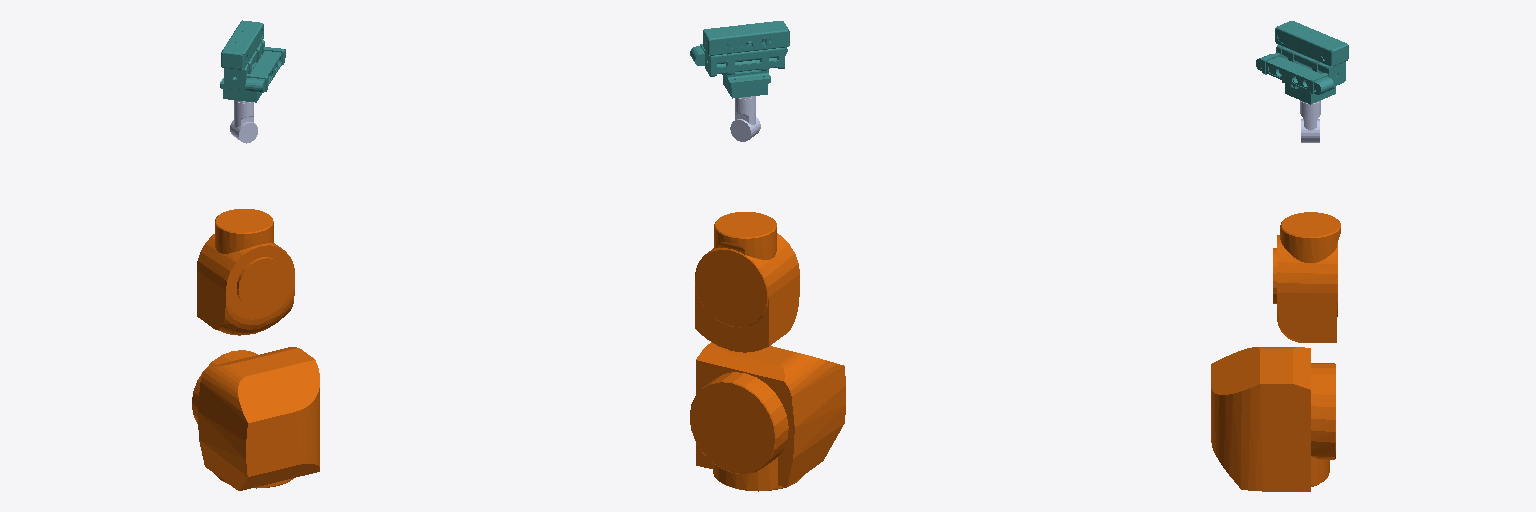
The robot description file, URDF, robot "RX60B-HB_5":
<robot
  name="RX60B-HB_5">
  <link
    name="base_link">
    <visual>
      <origin
        xyz="0 0 0"
        rpy="0 0 0" />
      <geometry>
        <mesh
          filename="package://rx60b_description/meshes/base_link.stl" />
      </geometry>
      <material
        name="">
        <color
          rgba="0.867 0.45 0.098 1" />
      </material>
    </visual>
    <collision>
      <origin
        xyz="0 0 0"
        rpy="0 0 0" />
      <geometry>
        <mesh
          filename="package://rx60b_description/meshes/base_link.stl" />
      </geometry>
    </collision>
  </link>
  <link
    name="powerconnector">
    <collision>
      <origin
        xyz="0 0 0"
        rpy="0 0 0" />
      <geometry>
        <mesh
          filename="package://rx60b_description/meshes/powerconnector.stl" />
      </geometry>
    </collision>
  </link>
  <joint name="powerconnector_joint" type="fixed">
    <origin
      xyz="-0.15 0 0.09"
      rpy="1.57079632679 1.57079632679 0" />
    <parent link="base_link" />
    <child link="powerconnector" />
    <axis xyz="1 0 0" />
  </joint>
  <link
    name="shoulder">
    <visual>
      <origin
        xyz="0 0 0"
        rpy="0 0 0" />
      <geometry>
        <mesh
          filename="package://rx60b_description/meshes/shoulder.stl" />
      </geometry>
      <material
        name="">
        <color
          rgba="0.867 0.45 0.098 1" />
      </material>
    </visual>
    <collision>
      <origin
        xyz="0 0 0"
        rpy="0 0 0" />
      <geometry>
        <mesh
          filename="package://rx60b_description/meshes/shoulder.stl" />
      </geometry>
    </collision>
  </link>
  <joint
    name="a1"
    type="revolute">
    <origin
      xyz="0 0 0.341"
      rpy="0 0 0" />
    <parent
      link="base_link" />
    <child
      link="shoulder" />
    <axis
      xyz="0 0 -1" />
    <limit
      lower="-3.14159265359"
      upper="3.14159265359"
      effort="0"
      velocity="0.2" />
  </joint>
  <link
    name="arm">
    <visual>
      <origin
        xyz="0 0 0"
        rpy="0 0 0" />
      <geometry>
        <mesh
          filename="package://rx60b_description/meshes/arm.stl" />
      </geometry>
      <material
        name="">
        <color
          rgba="0.867 0.45 0.098 1" />
      </material>
    </visual>
    <collision>
      <origin
        xyz="0 0 0"
        rpy="0 0 0" />
      <geometry>
        <mesh
          filename="package://rx60b_description/meshes/arm.stl" />
      </geometry>
    </collision>
  </link>
  <joint
    name="a2"
    type="revolute">
    <origin
      xyz="0 0.049 0"
      rpy="-1.57079632679 -1.57079632679 0" />
    <parent
      link="shoulder" />
    <child
      link="arm" />
    <axis
      xyz="0 0 -1" />
    <limit
      lower="-2.0943951"
      upper="2.0943951"
      effort="0"
      velocity="0.2" />
  </joint>
  <link
    name="elbow">
    <visual>
      <origin
        xyz="0 0 0"
        rpy="0 0 0" />
      <geometry>
        <mesh
          filename="package://rx60b_description/meshes/elbow.stl" />
      </geometry>
      <material
        name="">
        <color
          rgba="0.867 0.45 0.098 1" />
      </material>
    </visual>
    <collision>
      <origin
        xyz="0 0 0"
        rpy="0 0 0" />
      <geometry>
        <mesh
          filename="package://rx60b_description/meshes/elbow.stl" />
      </geometry>
    </collision>
  </link>
  <joint
    name="a3"
    type="revolute">
    <origin
      xyz="0.29 0 0"
      rpy="0 0 0" />
    <parent
      link="arm" />
    <child
      link="elbow" />
    <axis
      xyz="0 0 -1" />
    <limit
      lower="-2.2"
      upper="2.2"
      effort="0"
      velocity="0.2" />
  </joint>
  <link
    name="forearm">
    <visual>
      <origin
        xyz="0 0 0"
        rpy="0 0 1.57079632679" />
      <geometry>
        <mesh
          filename="package://rx60b_description/meshes/forearm.stl" />
      </geometry>
      <material
        name="">
        <color
          rgba="0.867 0.45 0.098 1" />
      </material>
    </visual>
    <collision>
      <origin
        xyz="0 0 0"
        rpy="0 0 1.57079632679" />
      <geometry>
        <mesh
          filename="package://rx60b_description/meshes/forearm.stl" />
      </geometry>
    </collision>
  </link>
  <joint
    name="a4"
    type="revolute">
    <origin
      xyz="0.11 0 0"
      rpy="0 1.57079632679 0" />
    <parent
      link="elbow" />
    <child
      link="forearm" />
    <axis
      xyz="0 0 -1" />
    <limit
      lower="-2.3387412"
      upper="2.3387412"
      effort="0"
      velocity="0.2" />
  </joint>
  <link
    name="wrist">
    <visual>
      <origin
        xyz="0 0 0"
        rpy="0 0 1.57079632679" />
      <geometry>
        <mesh
          filename="package://rx60b_description/meshes/wrist.stl" />
      </geometry>
      <material
        name="">
        <color
          rgba="0.792156862745098 0.819607843137255 0.933333333333333 1" />
      </material>
    </visual>
    <collision>
      <origin
        xyz="0 0 0"
        rpy="0 0 1.57079632679" />
      <geometry>
        <mesh
          filename="package://rx60b_description/meshes/wrist.stl" />
      </geometry>
    </collision>
  </link>
  <joint
    name="a5"
    type="revolute">
    <origin
      xyz="0 0 0.2"
      rpy="3.14159265359 1.57079632679 0" />
    <parent
      link="forearm" />
    <child
      link="wrist" />
    <axis
      xyz="0 0 -1" />
    <limit
      lower="-2"
      upper="2"
      effort="0"
      velocity="0.2" />
  </joint>
  <link
    name="tool_flange">
    <visual>
      <origin
        xyz="0 0 0"
        rpy="0 0 0" />
      <geometry>
        <mesh
          filename="package://rx60b_description/meshes/tool_flange.stl" />
      </geometry>
      <material
        name="">
        <color
          rgba="0.792156862745098 0.819607843137255 0.933333333333333 1" />
      </material>
    </visual>
    <collision>
      <origin
        xyz="0 0 0"
        rpy="0 0 0" />
      <geometry>
        <mesh
          filename="package://rx60b_description/meshes/tool_flange.stl" />
      </geometry>
    </collision>
  </link>
  <joint
    name="a6"
    type="revolute">
    <origin
      xyz="-0.07 0 0"
      rpy="0 1.57079632679 3.14159265359" />
    <parent
      link="wrist" />
    <child
      link="tool_flange" />
    <axis
      xyz="0 0 -1" />
    <limit
      lower="-2.0943951"
      upper="2.0943951"
      effort="0"
      velocity="0.2" />
  </joint>
  
  
  <link
    name="cameratool">
    <visual>
      <origin
        xyz="0 0 0"
        rpy="0 0 0" />
      <geometry>
        <mesh
          filename="package://rx60b_description/meshes/tool_visual.stl" />
      </geometry>
      <material
        name="">
        <color
          rgba="0.3 0.6 0.6 1" />
      </material>
    </visual>
    <collision>
      <origin
        xyz="0 0 0"
        rpy="0 0 0" />
      <geometry>
        <mesh
          filename="package://rx60b_description/meshes/tool_boundingbox.stl" />
      </geometry>
    </collision>
  </link>
  
  <joint
    name="toolmount"
    type="fixed">
    <origin
      xyz="0 0 0.0095"
      rpy="0 0 -0.785398163" />
    <parent
      link="tool_flange" />
    <child
      link="cameratool" />
    <axis
      xyz="1 0 0" />
  </joint>
  
  
  <link name="bumblebee_cam1"></link>
  <link name="bumblebee_cam2"></link>
  <joint
    name="bumblebee_cam1_joint"
    type="fixed">
    <origin
      xyz="-0.06 0.0 0.106114"
      rpy="-1.57079632679 0 0" />
    <parent link="cameratool" />
    <child link="bumblebee_cam1" />
    <axis xyz="1 0 0" />
  </joint>
  
  <joint
    name="bumblebee_cam2_joint"
    type="fixed">
    <origin
      xyz="0.06 0.0 0.106114"
      rpy="-1.57079632679 0 0" />
    <parent link="cameratool" />
    <child link="bumblebee_cam2" />
    <axis xyz="1 0 0" />
  </joint>
  
  
  <link name="asus_depthcam"></link>
  <link name="asus_rgbcam"></link>
  <link name="asus_projector"></link>
  <link name="camera_link_base"></link>
  <link name="camera_link"></link>
  
  <joint
    name="asus_depthcam_joint"
    type="fixed">
    <origin
      xyz="-0.046 0.052 0.056"
      rpy="1.57079632679 0 3.14159265359" />
    <parent link="cameratool" />
    <child link="asus_depthcam" />
    <axis xyz="1 0 0" />
  </joint>
  <joint
    name="asus_rgbcam_joint"
    type="fixed">
    <origin
      xyz="-0.0196 0.052 0.056"
      rpy="1.57079632679 0 3.14159265359" />
    <parent link="cameratool" />
    <child link="asus_rgbcam" />
    <axis xyz="1 0 0" />
  </joint>
  <joint
    name="asus_projector_joint"
    type="fixed">
    <origin
      xyz="0.0274 0.052 0.056"
      rpy="1.57079632679 0 3.14159265359" />
    <parent link="cameratool" />
    <child link="asus_projector" />
    <axis xyz="1 0 0" />
  </joint>
  <joint
    name="camera_link_joint"
    type="fixed">
    <origin
      xyz="0.0 0.052 0.056"
      rpy="0 0 1.57079632679" />
    <parent link="cameratool" />
    <child link="camera_link_base" />
    <axis xyz="1 0 0" />
  </joint>
  
  <joint
    name="camera_link_calibration_joint"
    type="fixed">
    <origin
      xyz="-0.000720925758209 -0.0152323263351 0.0157927251061"
      rpy="-0.0168287298647 0.000769727110753 -0.096552431091" />
    <parent link="camera_link_base" />
    <child link="camera_link" />
    <axis xyz="1 0 0" />
  </joint>

<!--  
  <link name="collision_object">
    <collision>
      <geometry>
        <cylinder length="0.15" radius="0.08"/>
      </geometry>
    </collision>
  </link>
  <joint
    name="collision_object_joint"
    type="fixed">
    <origin
      xyz="0.0 0.0 0.75"
      rpy="0 0 0" />
    <parent link="base_link" />
    <child link="collision_object" />
    <axis xyz="1 0 0" />
  </joint>
-->
  
  <link name="collision_radiator">
    <collision>
      <geometry>
        <box size="0.3 2 0.52" />
      </geometry>
    </collision>
  </link>
  <joint
    name="collision_radiator_joint"
    type="fixed">
    <origin
      xyz="-0.65 0.0 0.0"
      rpy="0 0 0" />
    <parent link="base_link" />
    <child link="collision_radiator" />
    <axis xyz="1 0 0" />
  </joint>
  
  <link name="collision_table">
    <collision>
      <geometry>
        <box size="1.5 1.5 0.1" />
      </geometry>
    </collision>
  </link>
  <joint
    name="collision_table_joint"
    type="fixed">
    <origin
      xyz="0.0 0.0 -0.025"
      rpy="0 0 0" />
    <parent link="base_link" />
    <child link="collision_table" />
    <axis xyz="1 0 0" />
  </joint>

    
  <link name="collision_fence">
    <collision>
      <geometry>
        <box size="2 0.1 2" />
      </geometry>
    </collision>
  </link>
  <joint
    name="collision_fence_joint"
    type="fixed">
    <origin
      xyz="0.0 -0.79 0"
      rpy="0 0 0" />
    <parent link="base_link" />
    <child link="collision_fence" />
    <axis xyz="1 0 0" />
  </joint>
  
  <link name="collision_pole">
    <collision>
      <geometry>
        <box size="0.3 0.3 2" />
      </geometry>
    </collision>
  </link>
  <joint
    name="collision_pole_joint"
    type="fixed">
    <origin
      xyz="-0.65 -0.7 0"
      rpy="0 0 0" />
    <parent link="base_link" />
    <child link="collision_pole" />
    <axis xyz="1 0 0" />
  </joint>
  
  <link name="collision_wall">
    <collision>
      <geometry>
        <box size="0.01 2 2" />
      </geometry>
    </collision>
  </link>
  <joint
    name="collision_wall_joint"
    type="fixed">
    <origin
      xyz="-0.65 0 0"
      rpy="0 0 0" />
    <parent link="base_link" />
    <child link="collision_wall" />
    <axis xyz="1 0 0" />
  </joint>
  
</robot>

--- Render facts (derived) ---
Views: 3 orthographic renders of the robot side by side, from view 1: azimuth 30°, elevation 25°; view 2: azimuth 150°, elevation 25°; view 3: azimuth 270°, elevation 25°.
Robot: RX60B-HB_5 — 21 links, 20 joints (6 revolute, 14 fixed); root link base_link; default pose: all joints at 0.
Links seen in each view (by area): view 1: shoulder, elbow, cameratool, wrist; view 2: shoulder, elbow, cameratool, wrist; view 3: shoulder, elbow, cameratool, wrist.
Boxes of the visible links, x1=… form: shoulder: x1=192, y1=347, x2=319, y2=490; elbow: x1=197, y1=209, x2=294, y2=335; cameratool: x1=220, y1=20, x2=285, y2=102; wrist: x1=230, y1=101, x2=257, y2=143; shoulder: x1=690, y1=342, x2=845, y2=491; elbow: x1=695, y1=212, x2=799, y2=352; cameratool: x1=690, y1=21, x2=789, y2=98; wrist: x1=730, y1=97, x2=760, y2=141; shoulder: x1=1211, y1=347, x2=1335, y2=491; elbow: x1=1273, y1=212, x2=1340, y2=342; cameratool: x1=1256, y1=21, x2=1348, y2=104; wrist: x1=1300, y1=101, x2=1320, y2=142.
Bounding box of the posed robot: 0.215 × 0.2658 × 0.9345 m (x, y, z).
5 mesh visuals loaded from 8 distinct referenced files (5 binary STL); not drawn: 3 (reference not matched to a file when rendering).